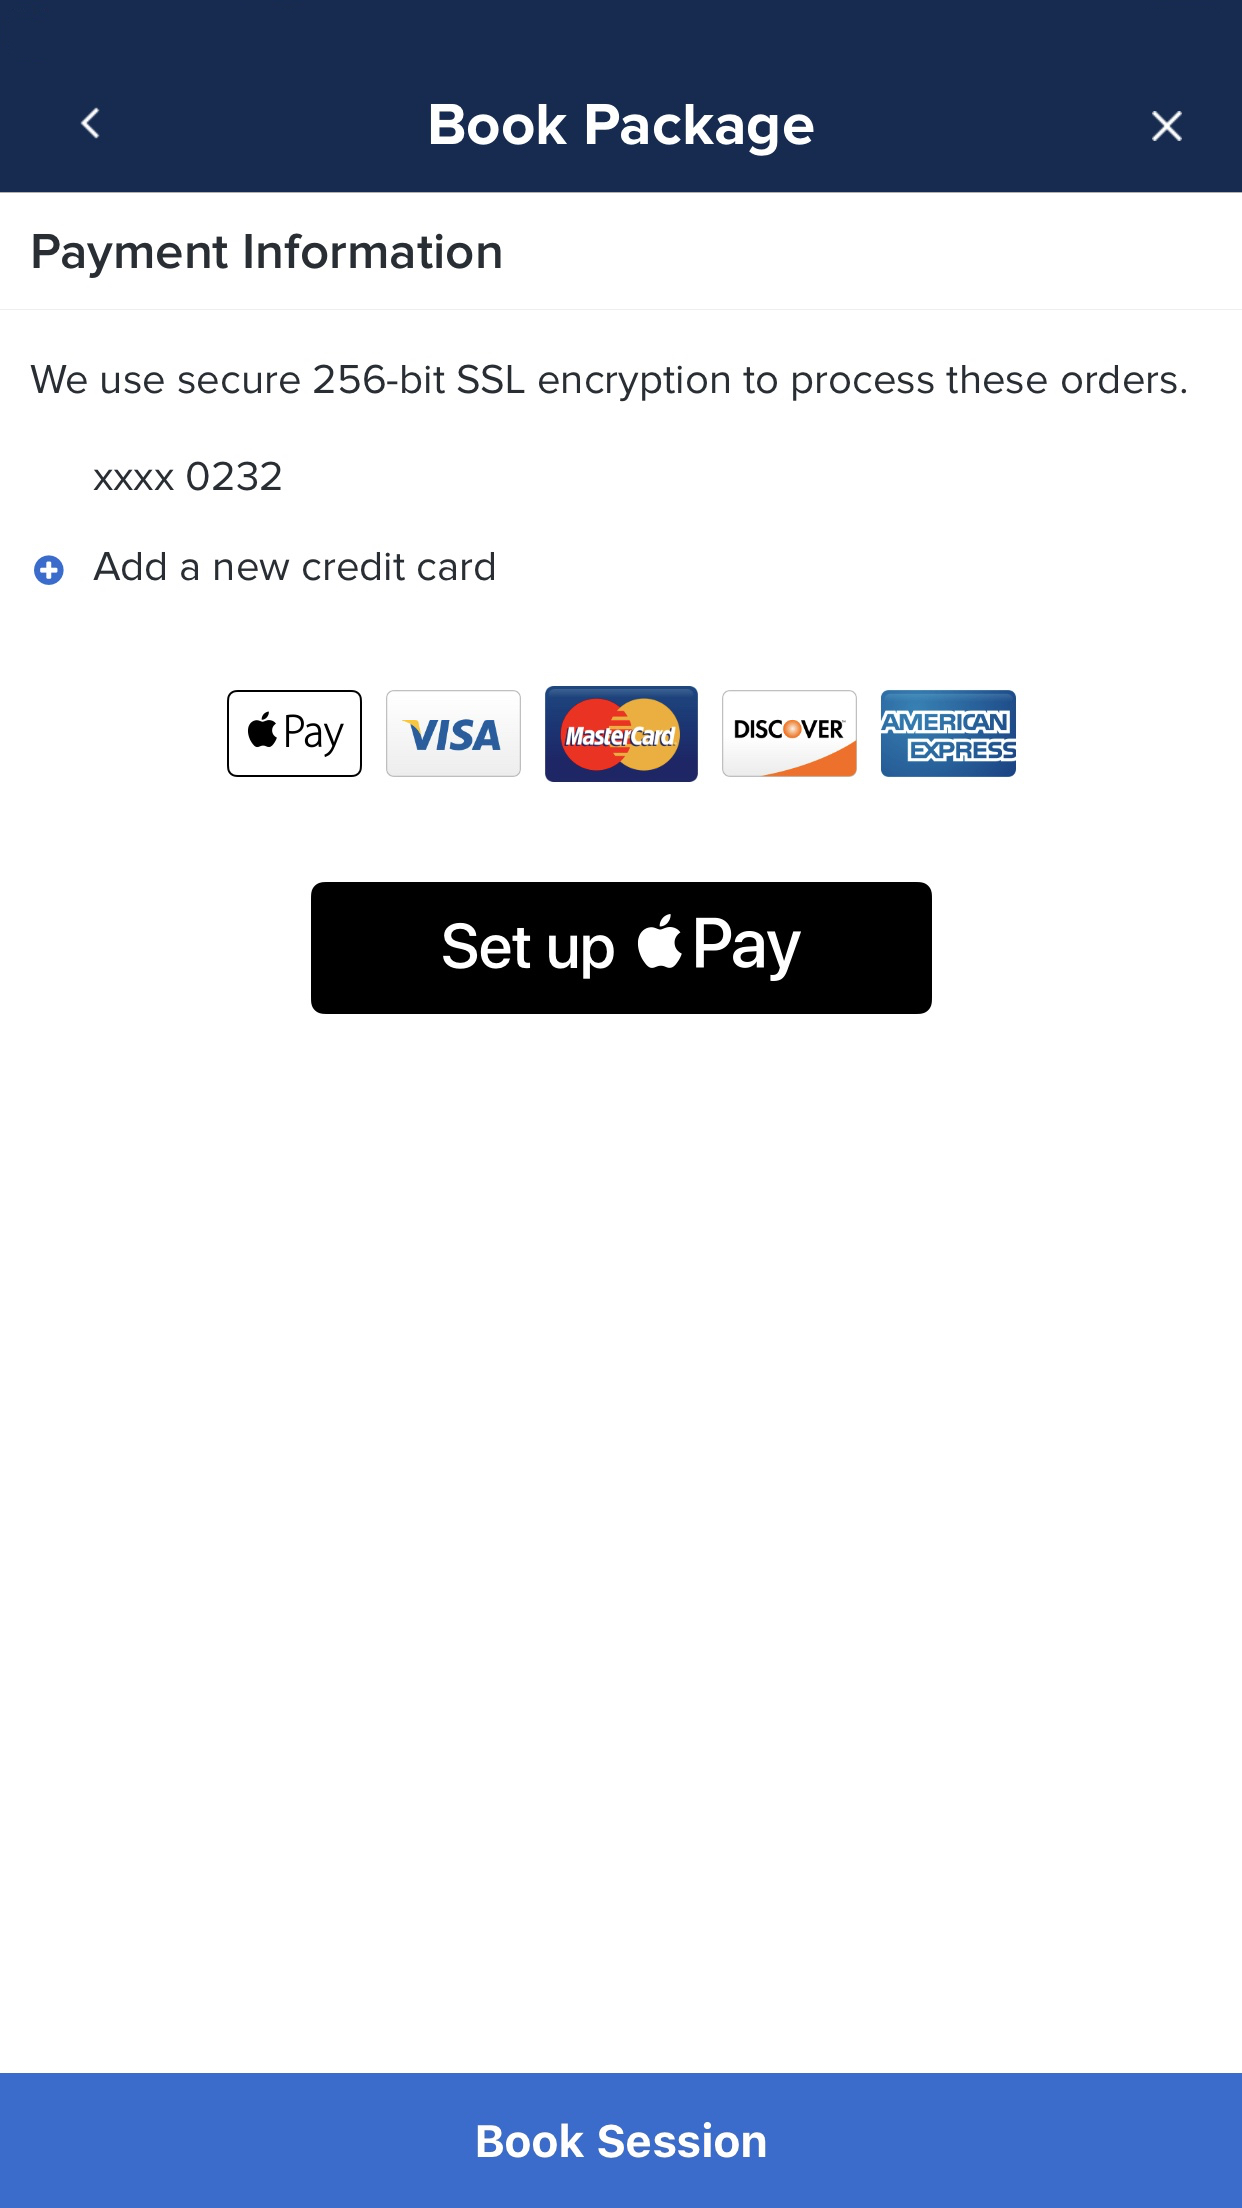Icon: (1151, 111, 1183, 143), (35, 555, 65, 587), (80, 108, 102, 141)
Image: (544, 685, 699, 783), (881, 688, 1018, 778), (227, 690, 364, 778), (722, 690, 858, 778), (387, 690, 522, 778)
Text: (30, 365, 1187, 403), (33, 234, 502, 279), (431, 105, 814, 158), (93, 552, 494, 582), (93, 461, 282, 491)
TextButton: (2, 2072, 1242, 2208), (311, 883, 933, 1015)
